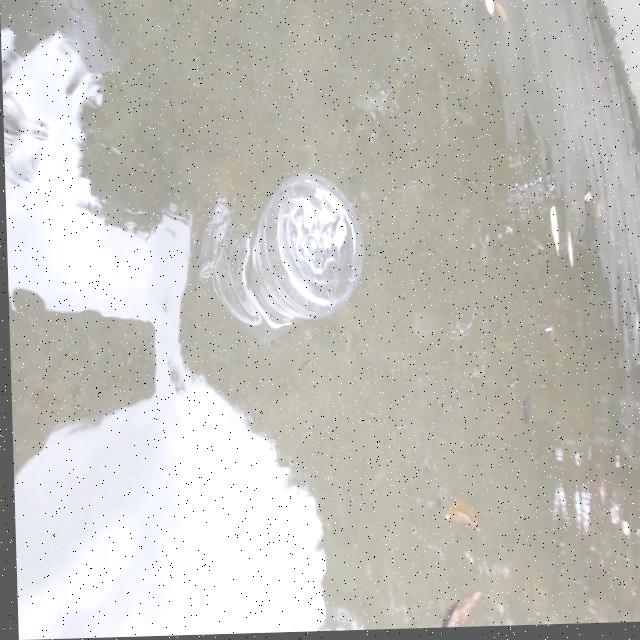leaf: (406, 577, 496, 631), (408, 0, 530, 36)
waterbottle: (179, 157, 357, 357)
